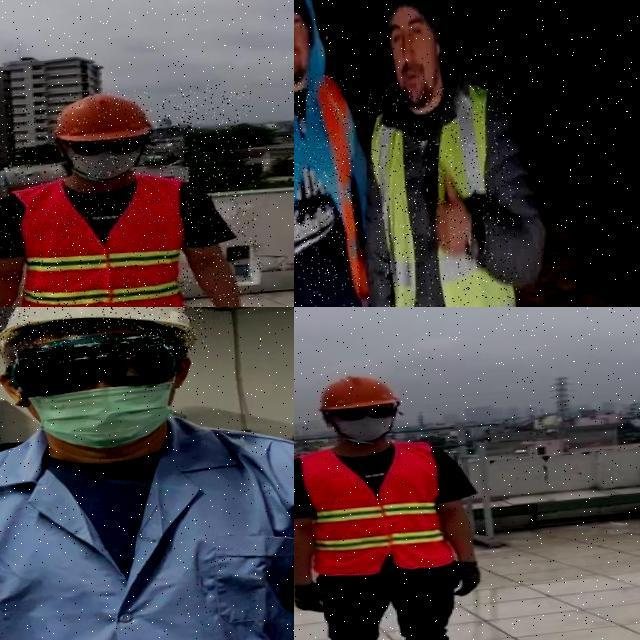helmet: (0, 307, 207, 369), (43, 88, 156, 146), (314, 369, 399, 414)
vest: (365, 82, 528, 307), (296, 438, 456, 581), (15, 174, 187, 307), (294, 73, 364, 307)
